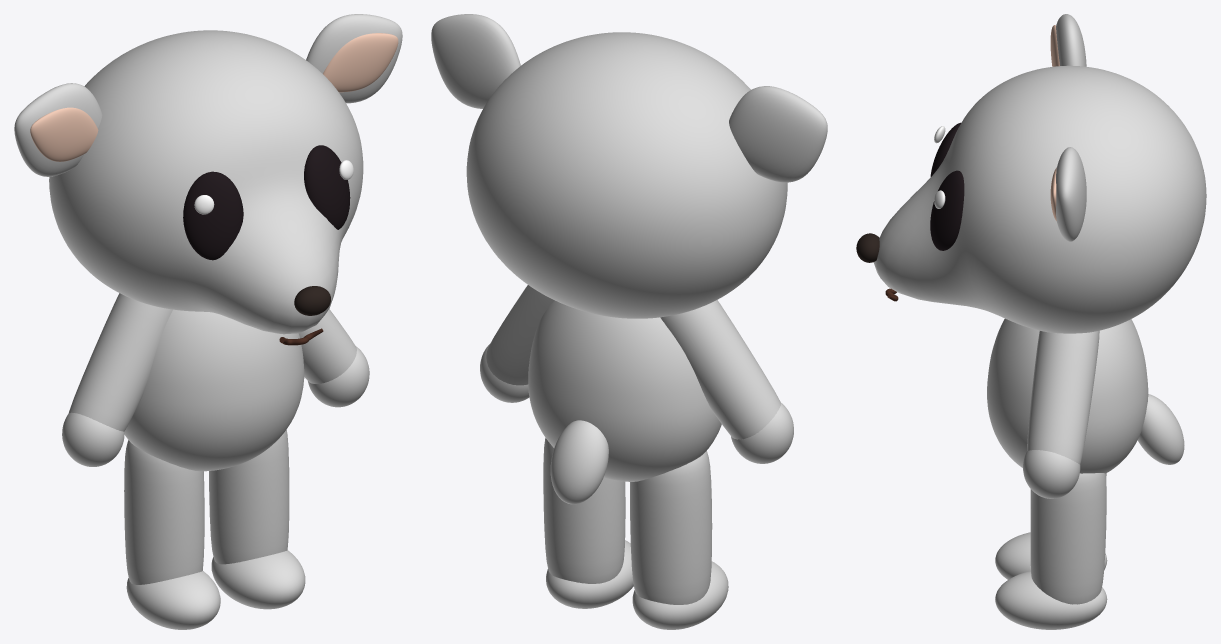
The model's file is villager_deer.glb.
The picture shows the model from 3 angles, left to right: view 1: azimuth 30°, elevation 25°; view 2: azimuth 150°, elevation 25°; view 3: azimuth 270°, elevation 25°; orthographic projection. The views are drawn at different scales.
Visible parts, largest first — view 1: head, torso, legL, legR, armL, armR, eyeL, earL, earR, earInR, earInL, eyeR (+1 smaller); view 2: head, torso, legL, armL, legR, earL, earR, armR, tail; view 3: head, torso, legR, armR, earR, tail, eyeR, legL, earL, nose.
Boxes of the visible parts, x1=… form: head: x1=49, y1=30, x2=363, y2=334; torso: x1=124, y1=309, x2=304, y2=471; legL: x1=124, y1=440, x2=220, y2=629; legR: x1=209, y1=430, x2=305, y2=609; armL: x1=62, y1=293, x2=172, y2=466; armR: x1=298, y1=309, x2=369, y2=407; eyeL: x1=183, y1=171, x2=243, y2=260; earL: x1=14, y1=83, x2=102, y2=176; earR: x1=306, y1=14, x2=402, y2=103; earInR: x1=323, y1=33, x2=398, y2=92; earInL: x1=30, y1=107, x2=98, y2=161; eyeR: x1=304, y1=145, x2=350, y2=229; head: x1=466, y1=32, x2=787, y2=318; torso: x1=528, y1=300, x2=721, y2=481; legL: x1=630, y1=451, x2=728, y2=629; armL: x1=660, y1=300, x2=793, y2=463; legR: x1=543, y1=438, x2=633, y2=608; earL: x1=729, y1=86, x2=827, y2=182; earR: x1=431, y1=14, x2=520, y2=108; armR: x1=480, y1=285, x2=554, y2=402; tail: x1=550, y1=420, x2=608, y2=504; head: x1=873, y1=65, x2=1206, y2=333; torso: x1=987, y1=318, x2=1148, y2=473; legR: x1=995, y1=473, x2=1107, y2=629; armR: x1=1023, y1=330, x2=1099, y2=498; earR: x1=1056, y1=147, x2=1086, y2=241; tail: x1=1137, y1=394, x2=1184, y2=464; eyeR: x1=930, y1=170, x2=964, y2=250; legL: x1=995, y1=473, x2=1107, y2=579; earL: x1=1056, y1=14, x2=1086, y2=66; nose: x1=856, y1=233, x2=879, y2=262.
Size of what is drawn, in the model's own units: 0.9118 by 1.26 by 0.7618.
